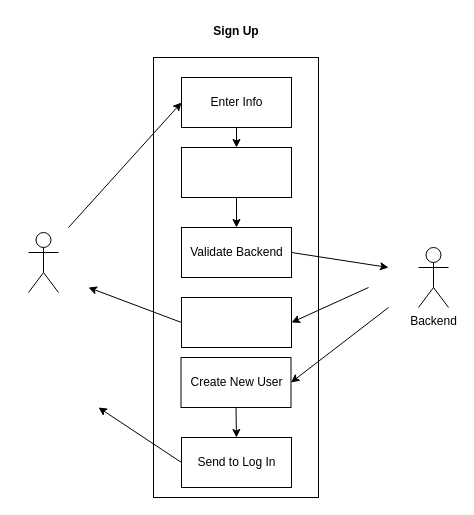
Some shapes in this 474 by 515 pixel diagram are drawn without their labels. Here are the shapes that lost their labels. From the top down, the centre of each, then its label:
the point at 236,172: Validate Frontend
the point at 43,262: New User
the point at 236,322: Failed Backend Notify User
